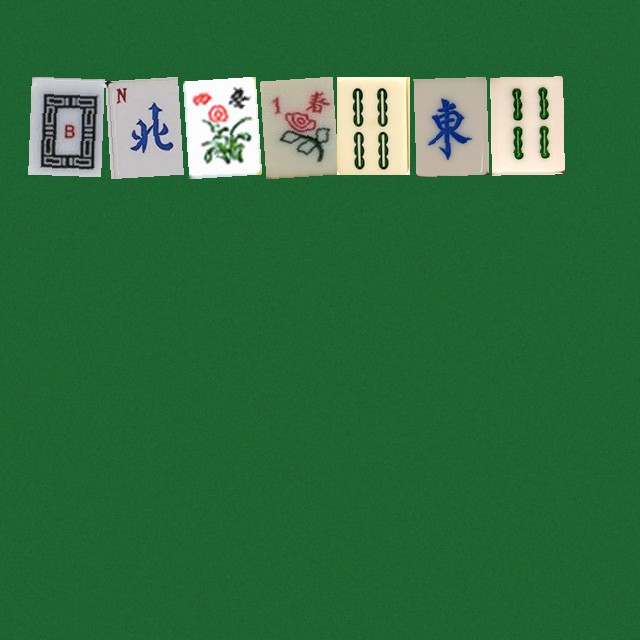tile: (28, 76, 101, 174), (105, 76, 178, 174), (182, 76, 255, 174), (259, 76, 332, 174), (336, 76, 409, 174), (413, 76, 486, 174), (490, 76, 563, 174)
